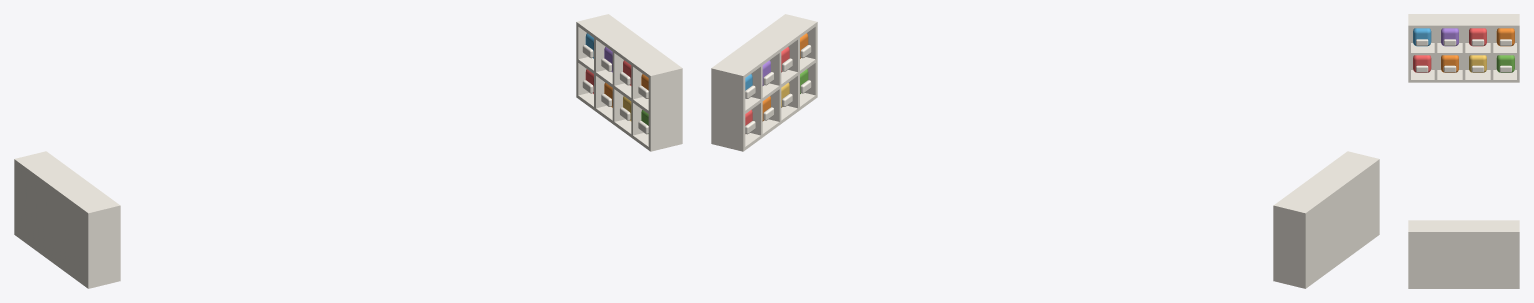
Rendered from kcubby-lockers.glb.
The picture shows the model from 3 angles, left to right: view 1: azimuth 30°, elevation 25°; view 2: azimuth 150°, elevation 25°; view 3: azimuth 270°, elevation 25°; orthographic projection. The views are drawn at different scales.
Size of the model in its own units: 7.4 by 0.9 by 1.6.
